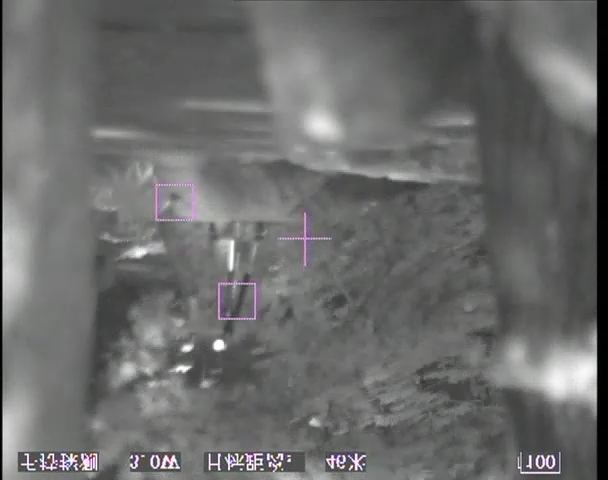my: (212, 338, 225, 353)
